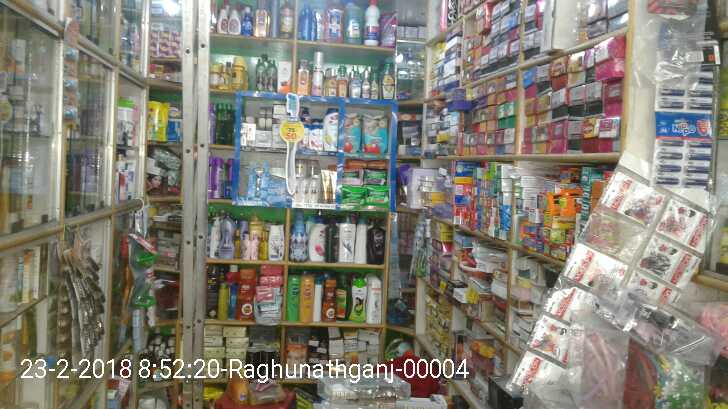venus: (246, 162, 267, 206), (268, 183, 286, 206)
